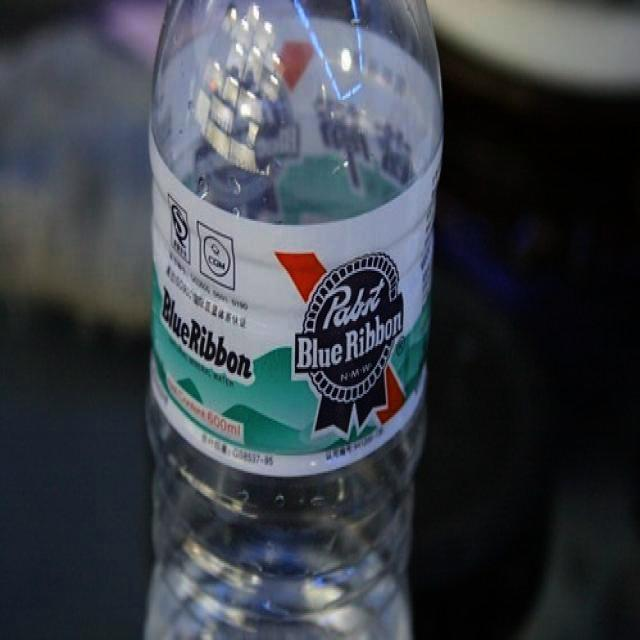bottle: (148, 4, 445, 638)
